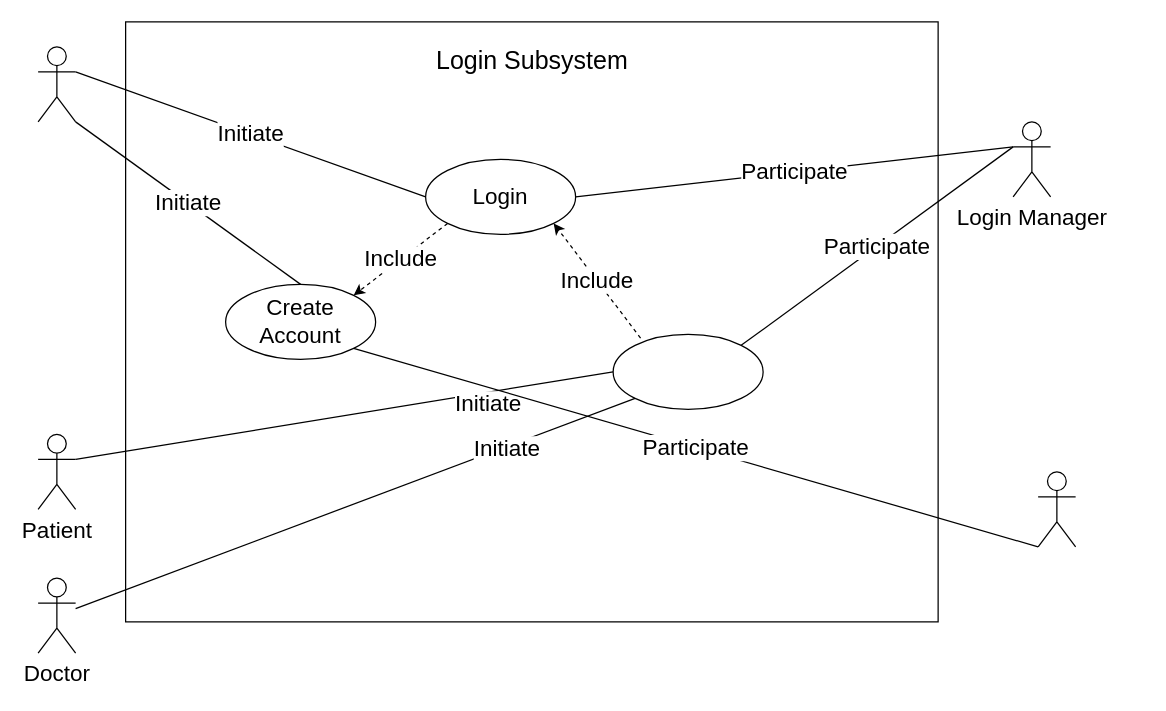
Image size: 1166x711. Some labels were removed from this diagram. Each missing label, with the box of its shape:
Account Manager: (1037, 471, 1076, 547)
Logout: (612, 333, 763, 409)
User: (37, 46, 76, 122)
